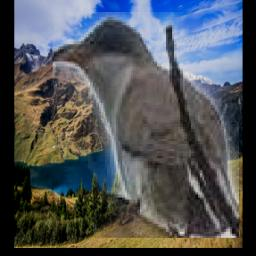Cuckoo: (52, 12, 238, 238)
